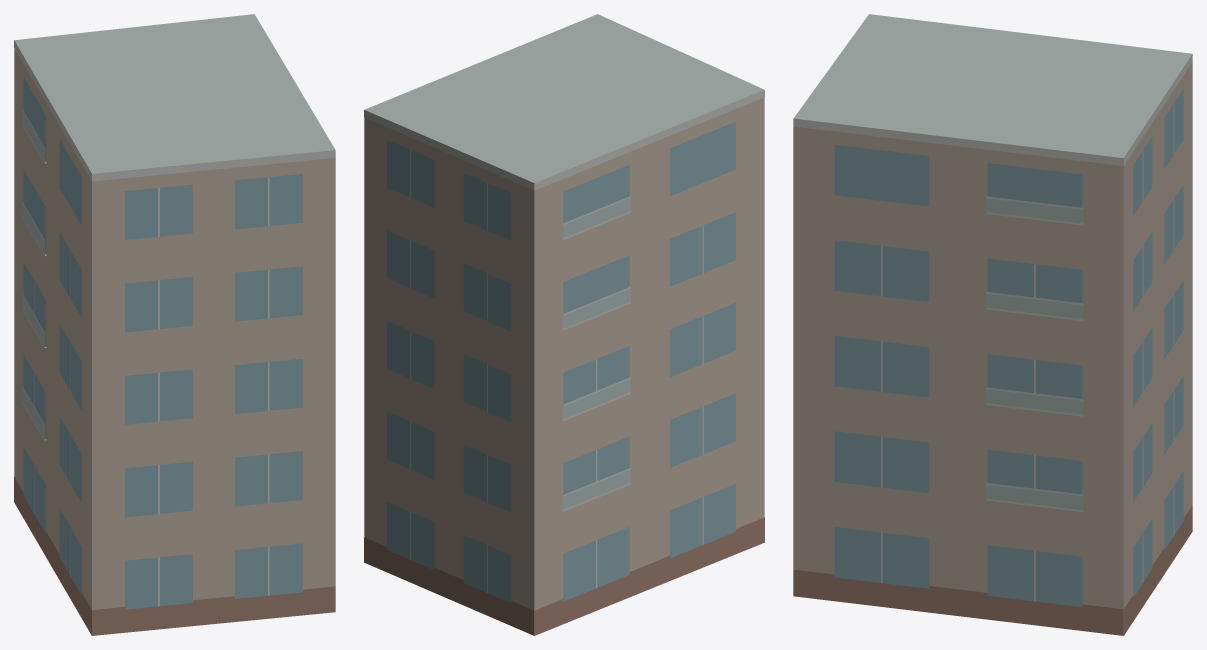
File: survey-upis-32942515.glb
3 renders of one model, left to right at view 1: azimuth 30°, elevation 25°; view 2: azimuth 150°, elevation 25°; view 3: azimuth 270°, elevation 25°, orthographic. The views are drawn at different scales.
Visible parts, largest first — view 1: survey-upis-32942515.tmp; view 2: survey-upis-32942515.tmp; view 3: survey-upis-32942515.tmp.
Part boxes in pixels (<box>): survey-upis-32942515.tmp: <box>14,14,335,635</box>; survey-upis-32942515.tmp: <box>364,14,764,635</box>; survey-upis-32942515.tmp: <box>793,14,1192,635</box>.
Size of the model in its own units: 9.52 by 14.7 by 11.14.
